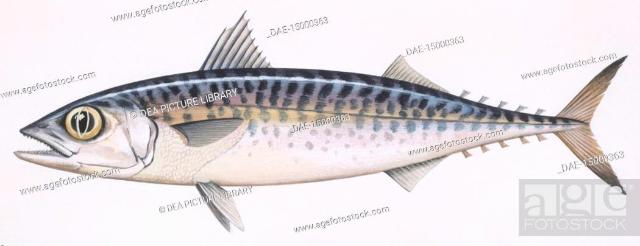Mulut: (10, 119, 70, 173)
Sirip Anal: (380, 144, 454, 194)
Sirip Dada: (173, 112, 249, 150)
Sirip Ekor: (560, 52, 634, 198)
Sirip Perut: (192, 177, 252, 237)
Sirip Punggung: (199, 6, 453, 88)
